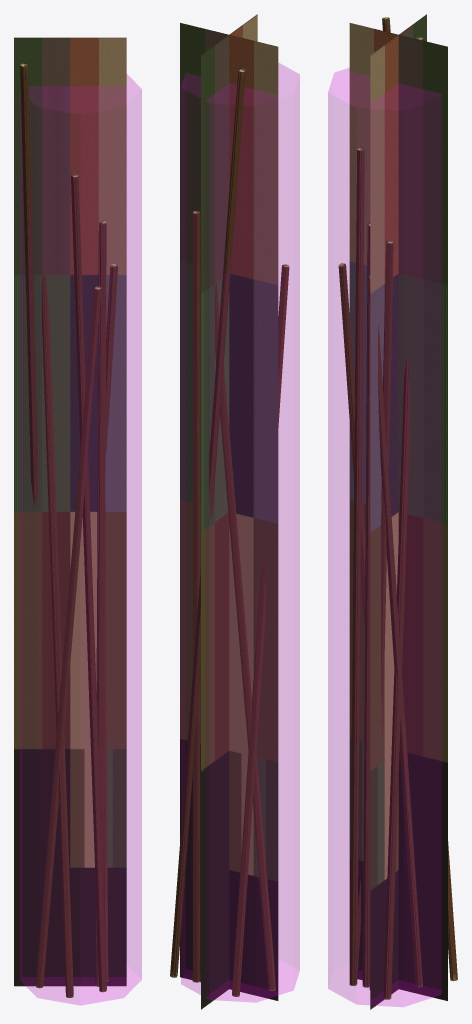
Rendered from ocotillo_tall.dae.
3 views of the same model, side by side, from view 1: azimuth 90°, elevation 25°; view 2: azimuth 150°, elevation 25°; view 3: azimuth 330°, elevation 25° (orthographic).
Parts seen in each view (by area): view 1: Colmesh_clump-1, ocotillo_tall_a50, ocotillo_tall_a800, ocotillo_tall_a200; view 2: Colmesh_clump-1, ocotillo_tall_a50, ocotillo_tall_a800, ocotillo_tall_a200; view 3: Colmesh_clump-1, ocotillo_tall_a50, ocotillo_tall_a800, ocotillo_tall_a200.
Part boxes in pixels (box(x1,y1,x2,y2)): Colmesh_clump-1: box(20, 74, 141, 1005); ocotillo_tall_a50: box(14, 37, 126, 986); ocotillo_tall_a800: box(20, 63, 117, 997); ocotillo_tall_a200: box(20, 64, 117, 997); Colmesh_clump-1: box(181, 63, 299, 1002); ocotillo_tall_a50: box(180, 14, 278, 1009); ocotillo_tall_a800: box(170, 68, 289, 996); ocotillo_tall_a200: box(170, 71, 289, 996); Colmesh_clump-1: box(328, 68, 441, 1006); ocotillo_tall_a50: box(349, 14, 447, 1009); ocotillo_tall_a800: box(338, 17, 457, 999); ocotillo_tall_a200: box(341, 17, 457, 999).
Bounding box in the file's own units: 0.57 × 0.5852 × 4.79.
Materials: 2 (1 with a texture image).
